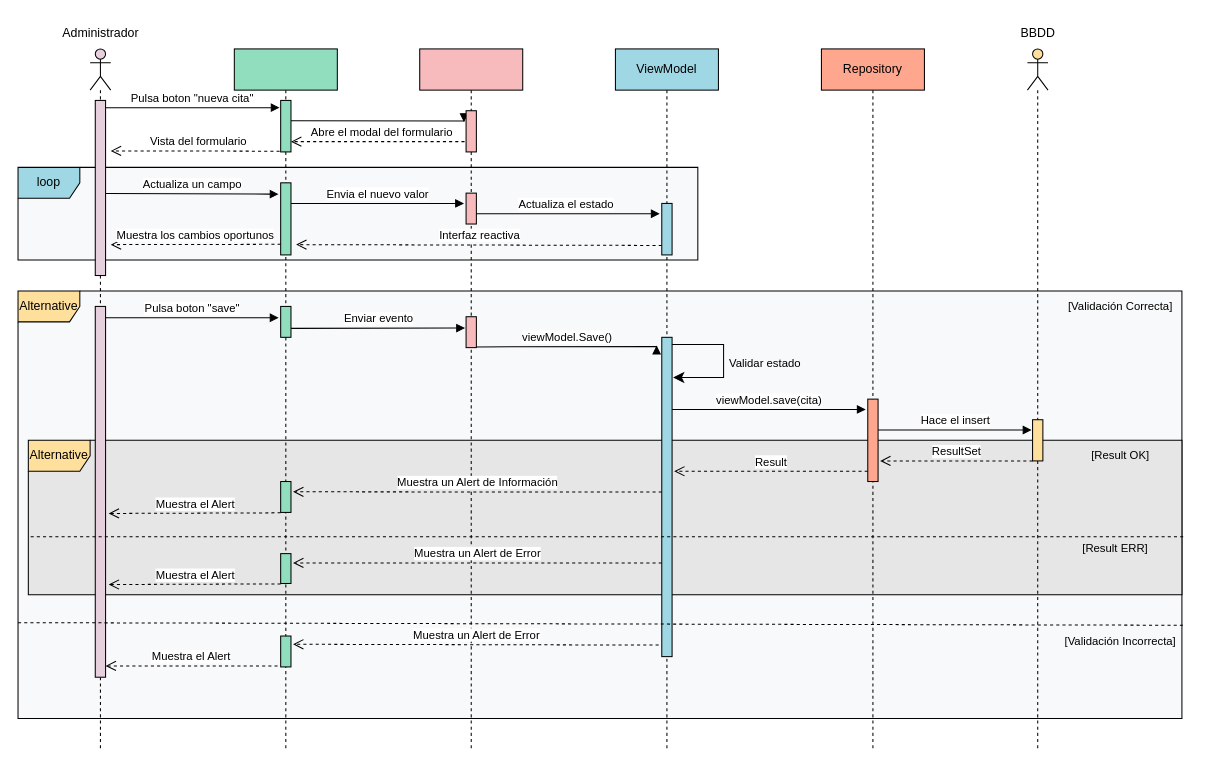
The diagram is 1205 pixels wide and 767 high, and some of its shapes have lost their labels. Here are the shapes that lost their labels. From the top down, the box of each, then its label:
(233, 48, 337, 749): Interfaz
(419, 48, 523, 749): Controller
